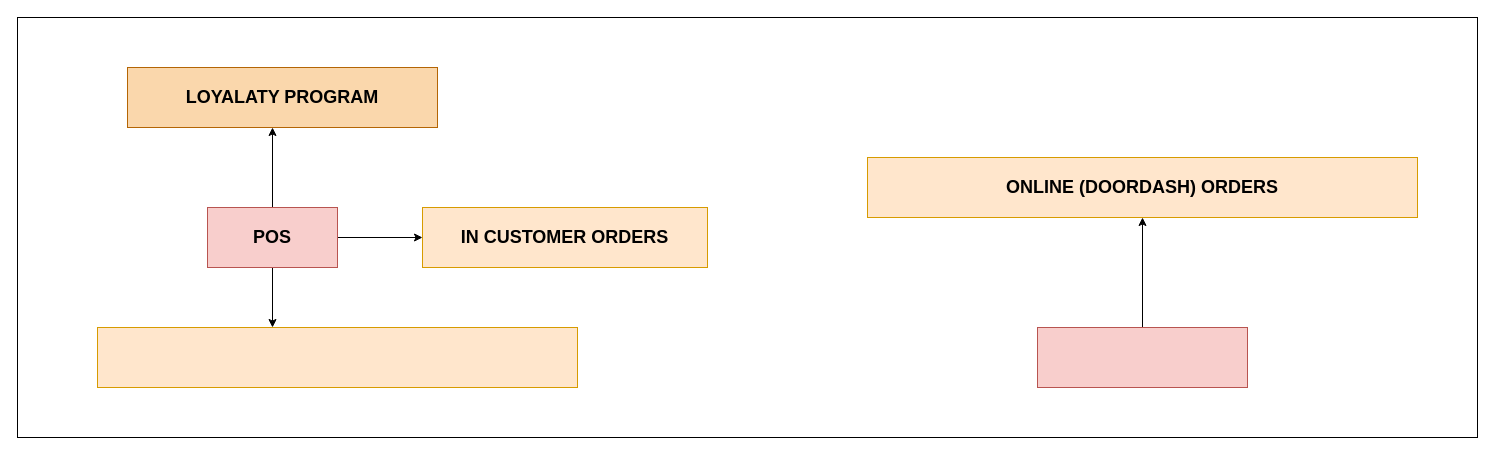
This 1495x455 diagram has some shape labels left out. The shapes that lost their labels are listed below. From the top down, each one's centre as x and y in pixels, then its label:
point (337, 357): ONLINE (UBER , GRUBHUB) ORDERS
point (1142, 357): DOORDASH
